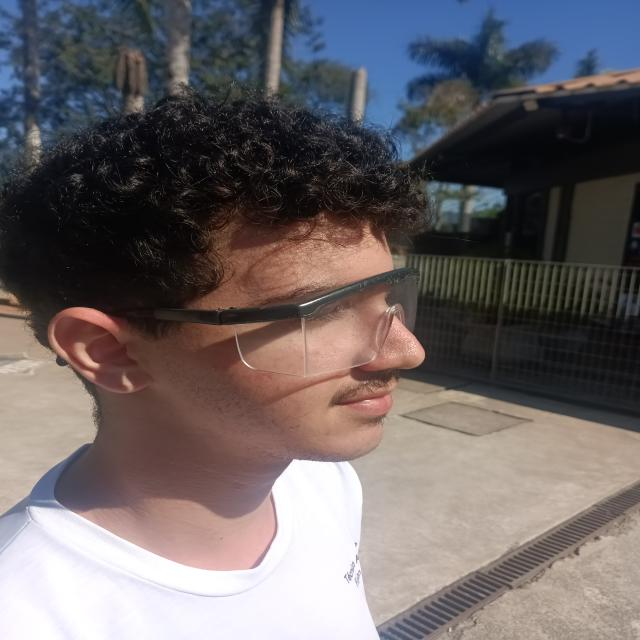oculos-epi: (121, 267, 419, 377)
